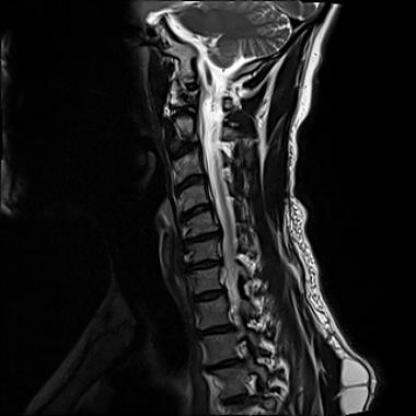Disc Bulgerotation: (177, 203, 212, 221), (186, 257, 225, 273), (172, 174, 208, 191), (182, 231, 222, 246), (168, 143, 202, 160)
Disc Protrusionrotation: (177, 203, 212, 221), (185, 257, 224, 273), (182, 231, 222, 246), (167, 143, 201, 160)
